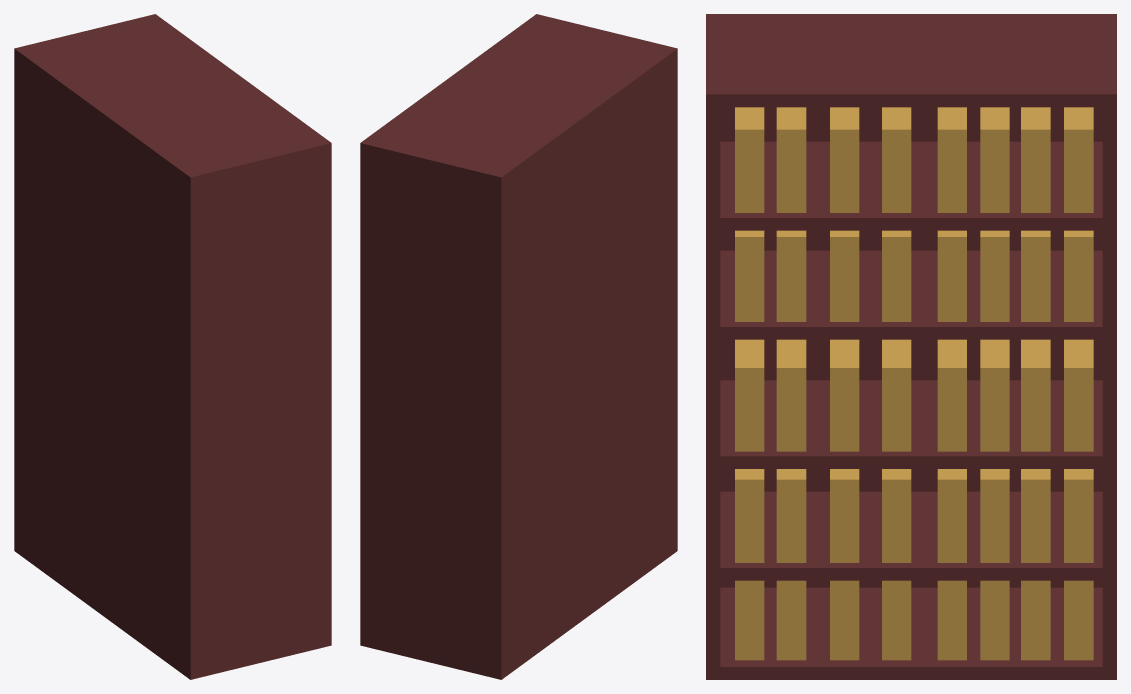
File: Shelf that has books.fbx
3 renders of one model, left to right at view 1: azimuth 30°, elevation 25°; view 2: azimuth 150°, elevation 25°; view 3: azimuth 270°, elevation 25°, orthographic. The views are drawn at different scales.
Parts seen in each view (by area): view 1: Cube_2_3; view 2: Cube_2_3; view 3: Cube_2_3, Cube_4_2, Cube_2_2, Cube_1_2, Cube_3_2, Cube_19, Cube_26, Cube_24, Cube_23, Cube_25, Cube_22, Cube_21 (+33 smaller).
Part boxes in pixels (x1,y1,x2,y2): Cube_2_3: (14,14,331,679); Cube_2_3: (360,14,677,679); Cube_2_3: (706,14,1116,679); Cube_4_2: (720,491,1102,580); Cube_2_2: (720,250,1102,339); Cube_1_2: (720,141,1102,230); Cube_3_2: (720,380,1102,468); Cube_19: (776,339,806,451); Cube_26: (1064,339,1093,451); Cube_24: (1021,339,1050,451); Cube_23: (980,339,1009,451); Cube_25: (735,339,764,451); Cube_22: (937,339,966,451); Cube_21: (882,339,911,451).
Bounding box in the file's own units: 107 × 363 × 231.
